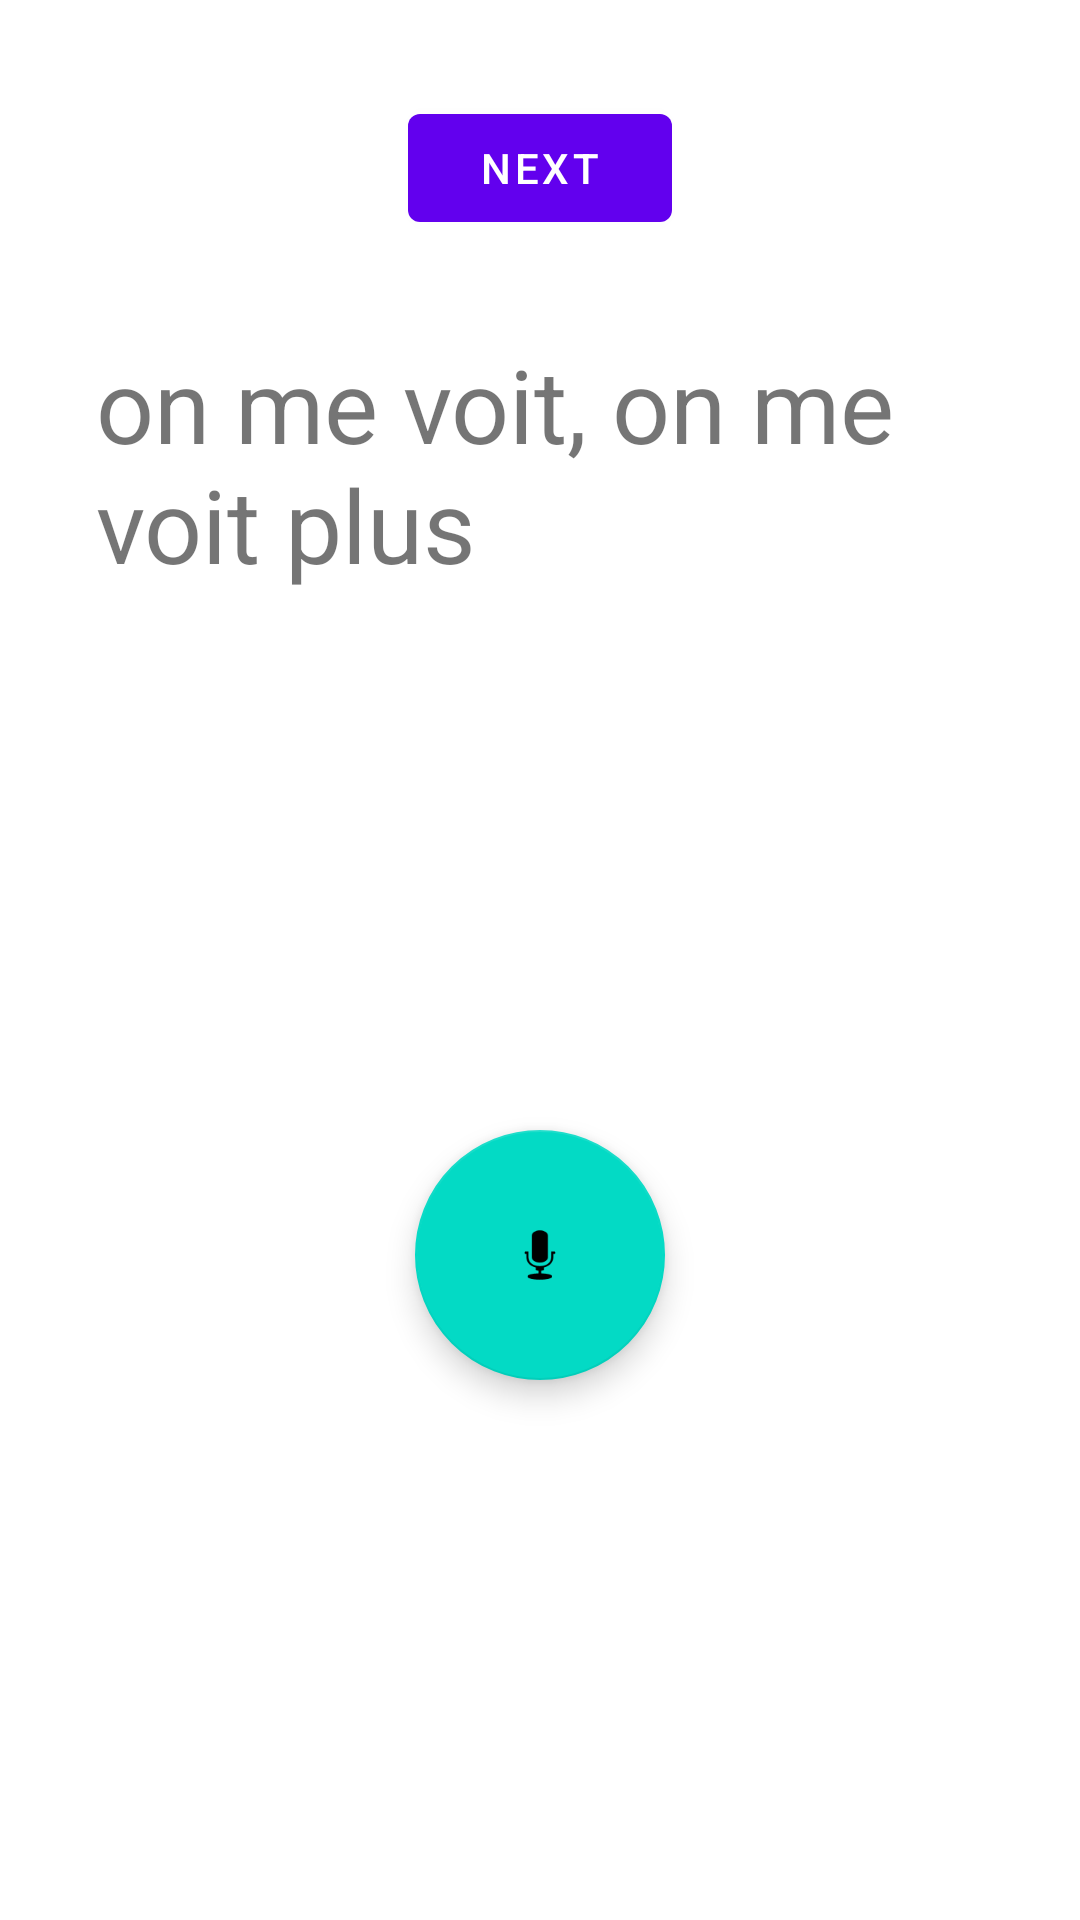

Where icons sit on this 1080px×1920px app screen, as bbox=[x1, y1, x2, y2]:
speak now: bbox=[415, 1130, 665, 1380]
